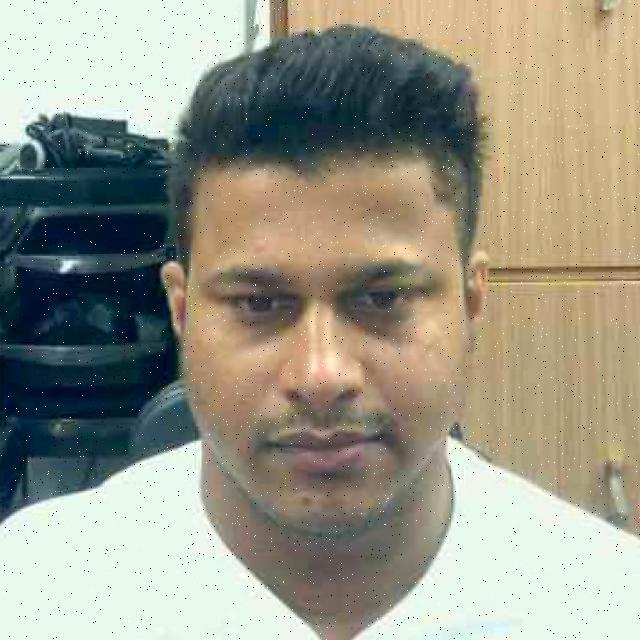puffy_eyes: (229, 301, 307, 345), (343, 306, 415, 339)
